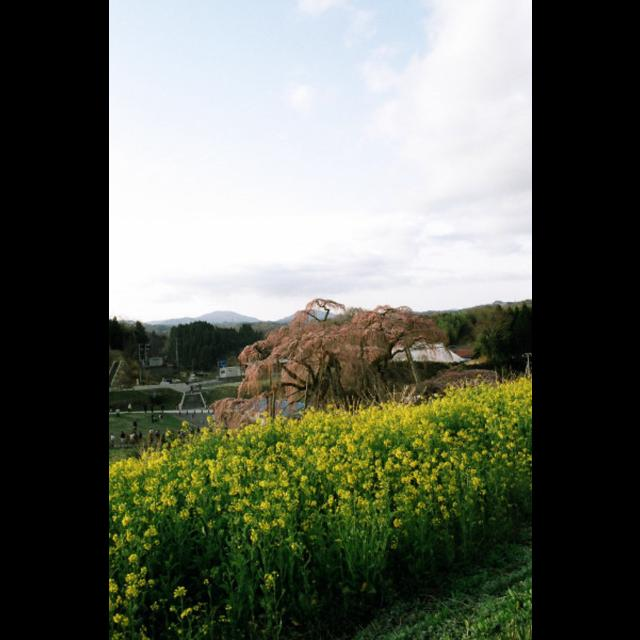Flower: (108, 375, 530, 639), (390, 518, 410, 528)
